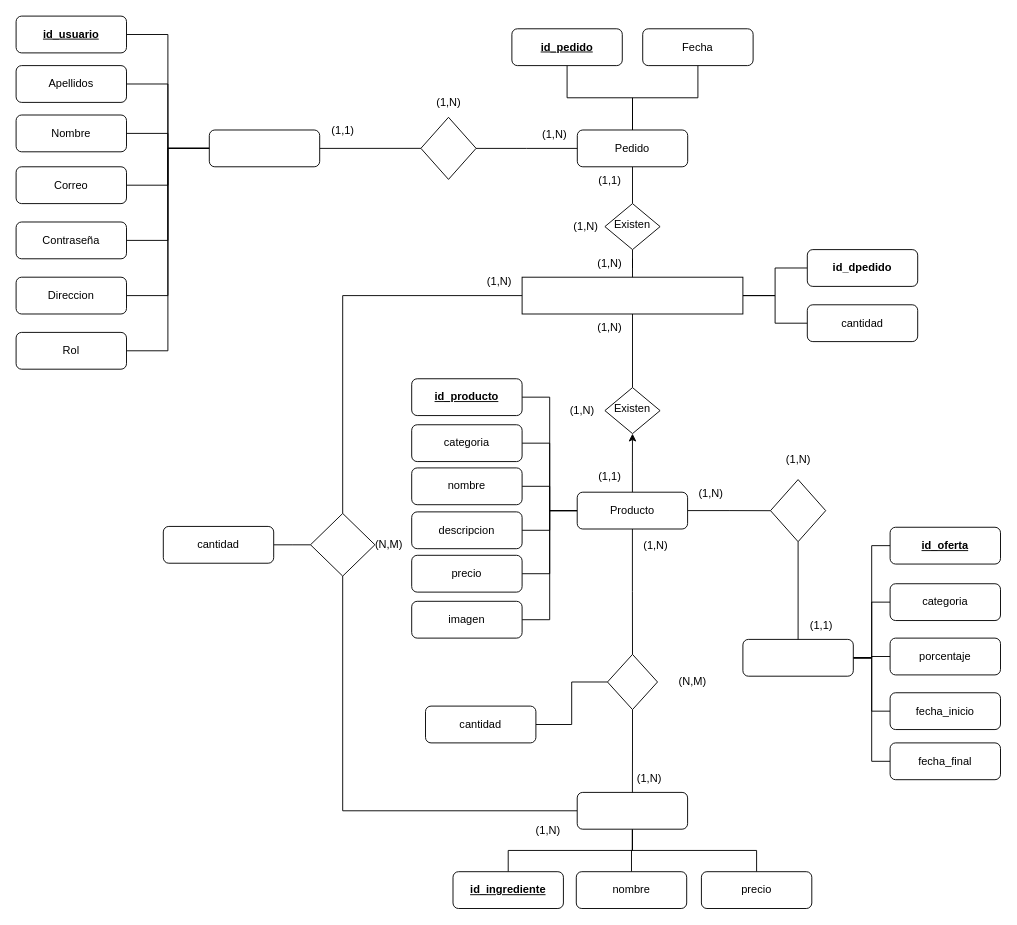
The diagram is 1017 pixels wide and 925 high, and some of its shapes have lost their labels. The shapes that lost their labels are listed below. From the top down, each one's centre as x and y in pixels, then its label:
At (264,148): "USUARIO".
At (448,147): "Compra".
At (632,295): "Detalle_Pedido".
At (798,510): "Se le aplica".
At (342,544): "Modificar Ingredientes".
At (797,657): "OFERTA".
At (632,681): "Cantidad Ingredientes".
At (632,810): "Ingrediente".
